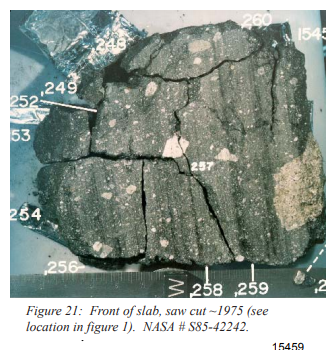Breccia: (26, 45, 320, 265)
